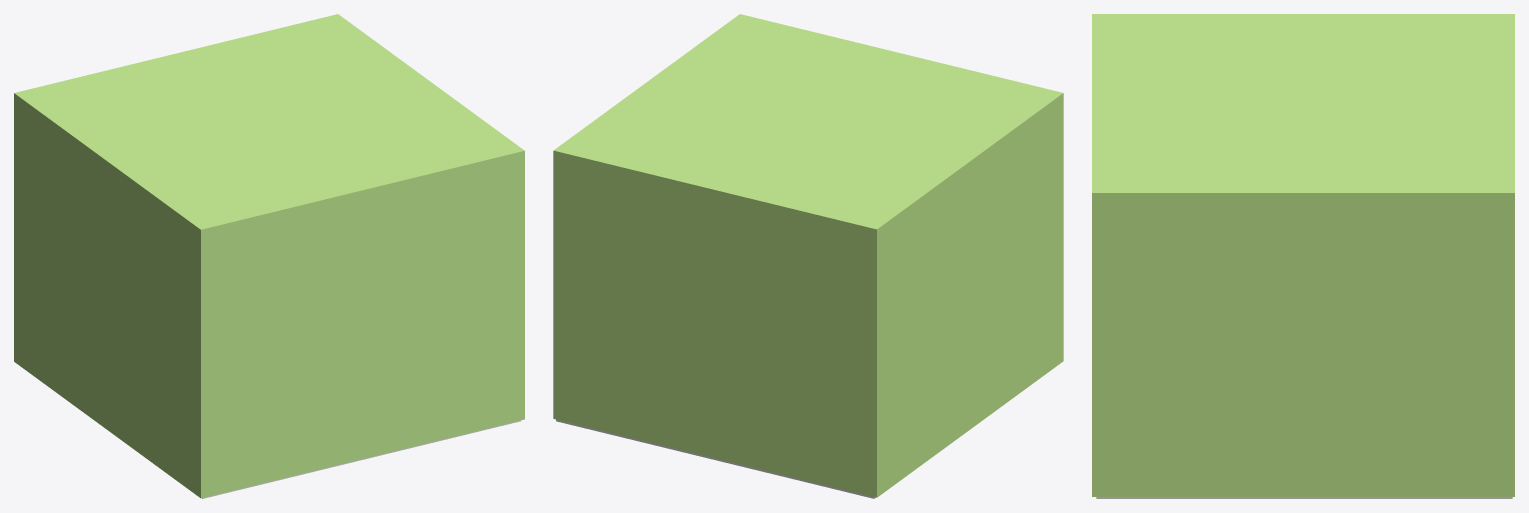
Rendered from Puzzle1.fbx.
3 renders of one model, left to right at view 1: azimuth 30°, elevation 25°; view 2: azimuth 150°, elevation 25°; view 3: azimuth 270°, elevation 25°, orthographic. The views are drawn at different scales.
Parts seen in each view (by area): view 1: Cube_Room_Reference; view 2: Cube_Room_Reference, Floor; view 3: Cube_Room_Reference, Floor.
Part boxes in pixels (x1=…): Cube_Room_Reference: x1=14, y1=14, x2=524, y2=498; Cube_Room_Reference: x1=553, y1=14, x2=1063, y2=497; Floor: x1=556, y1=419, x2=875, y2=498; Cube_Room_Reference: x1=1092, y1=14, x2=1514, y2=496; Floor: x1=1096, y1=497, x2=1512, y2=498.
Bounding box in the file's own units: 374 × 299 × 373.
